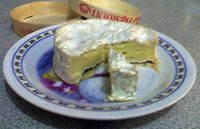camembert: (52, 17, 159, 102)
